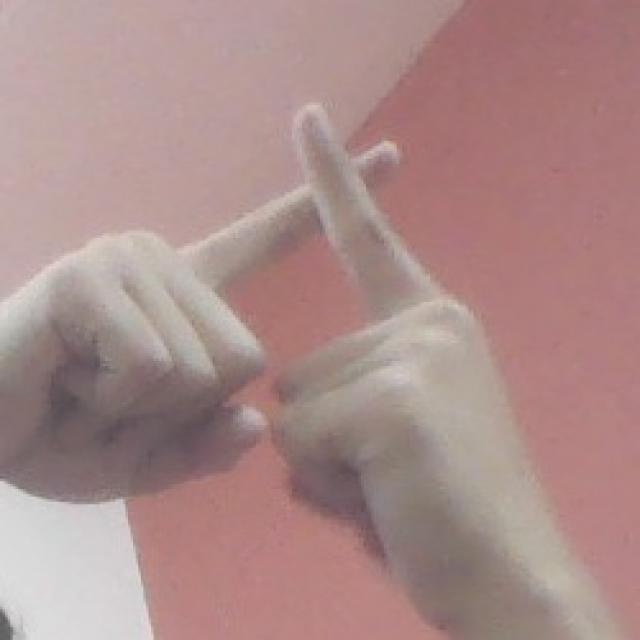Alphabet-X: (0, 98, 566, 576)
